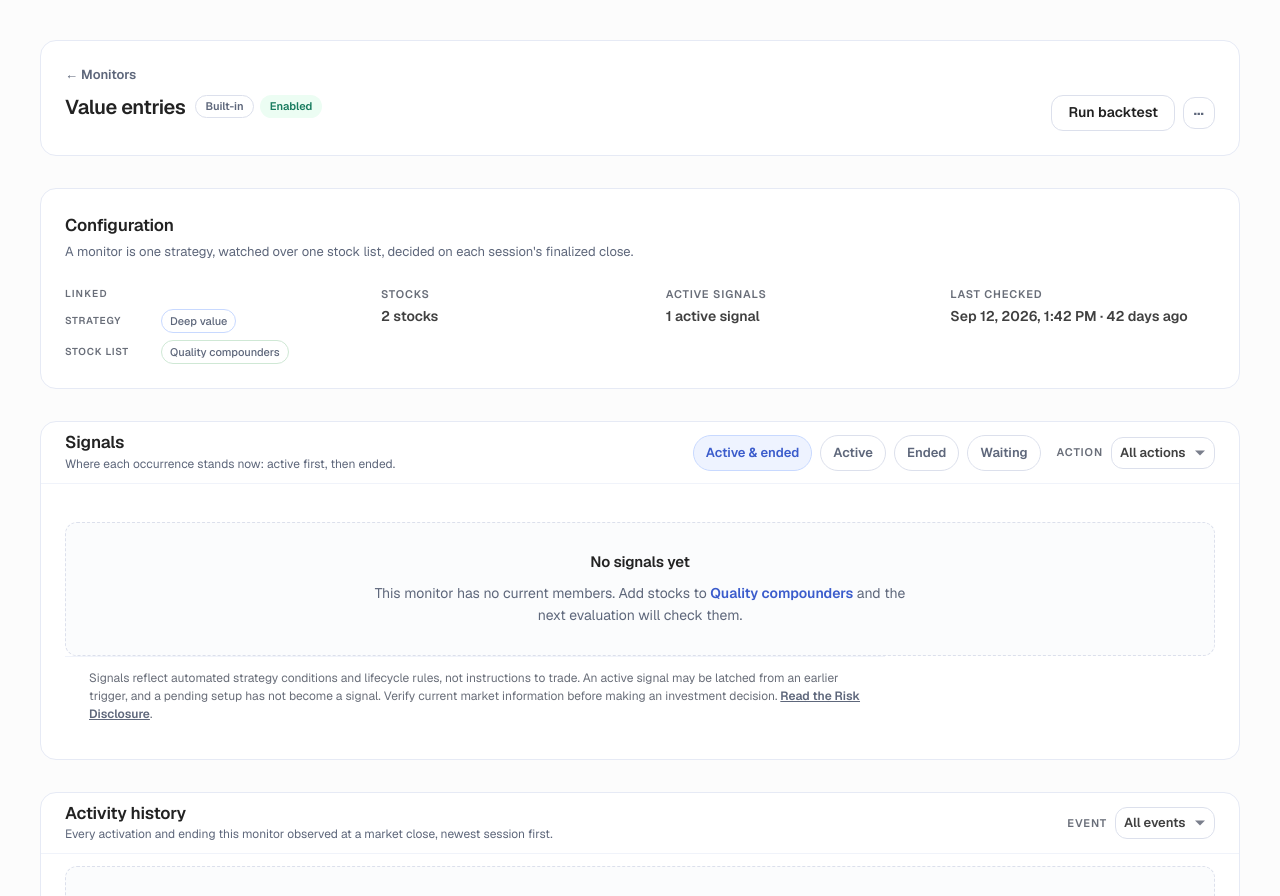
it: MonitorDetail › built-in monitors › lets a signed-in customer disable it for their own account, and nothing else
Click the button "…".
click(1199, 112)  # box [1183,96,1215,128]
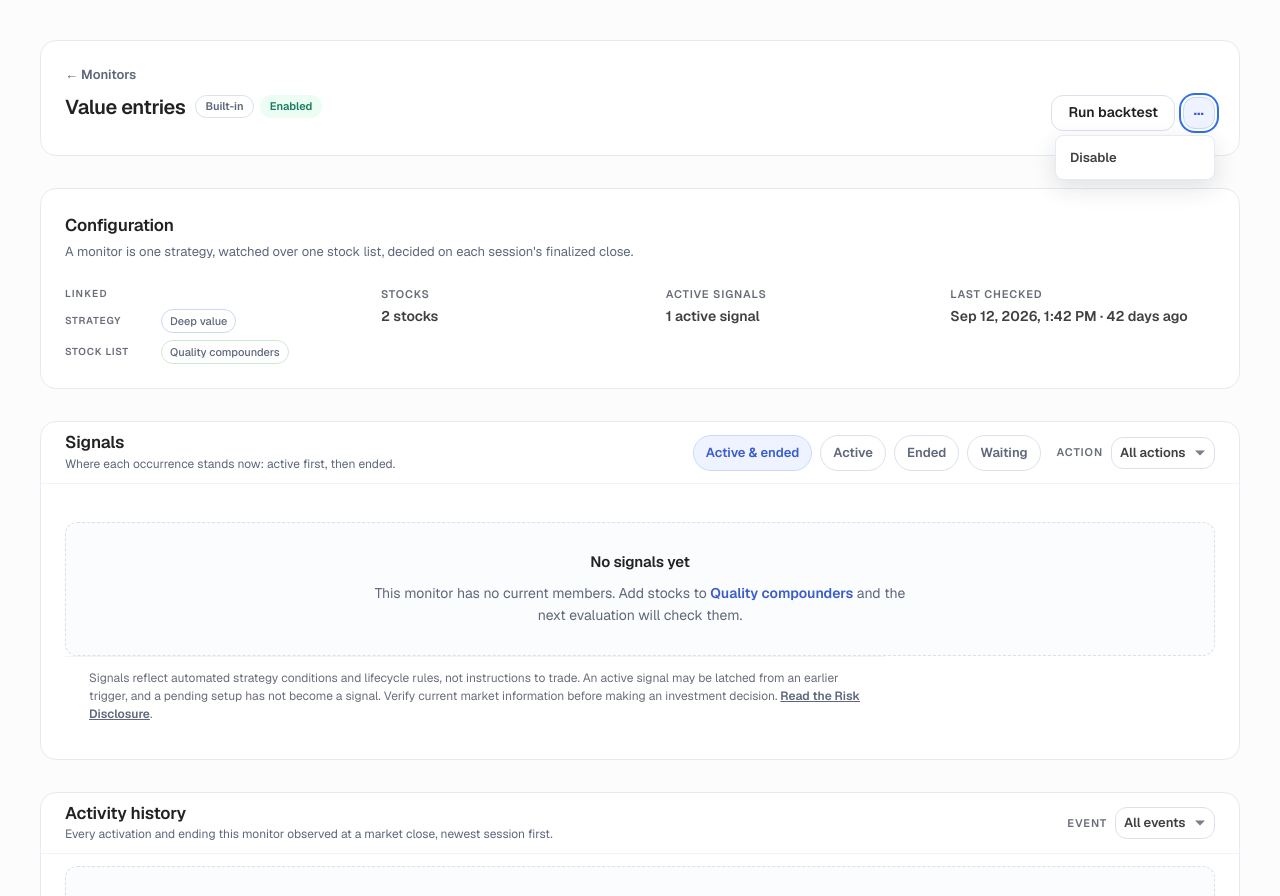
Click the button with test id "toggle-monitor".
click(1135, 157)  # box [1056,140,1214,175]
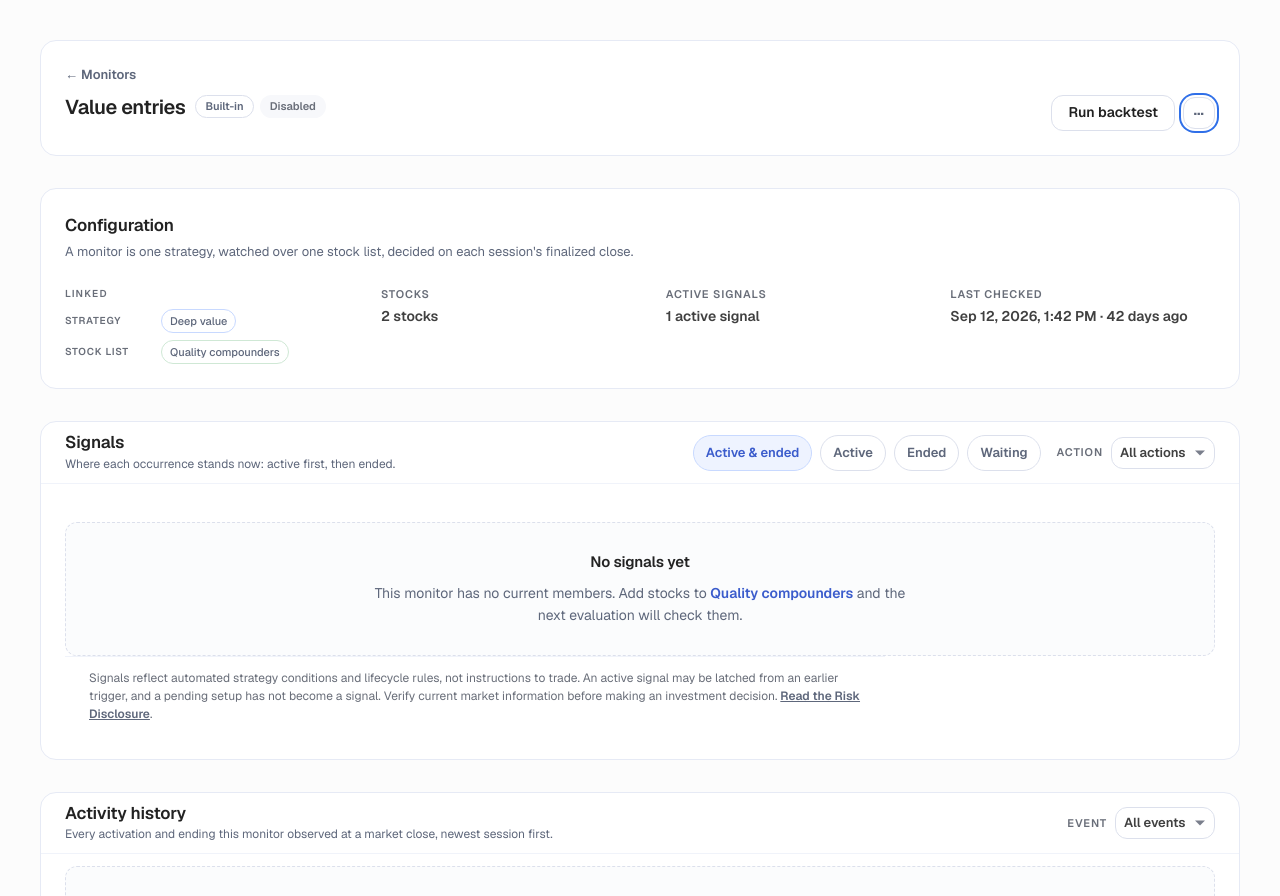
Check: the text with test id "monitor-state-pill" reads "Disabled", box [270,98,316,112]
